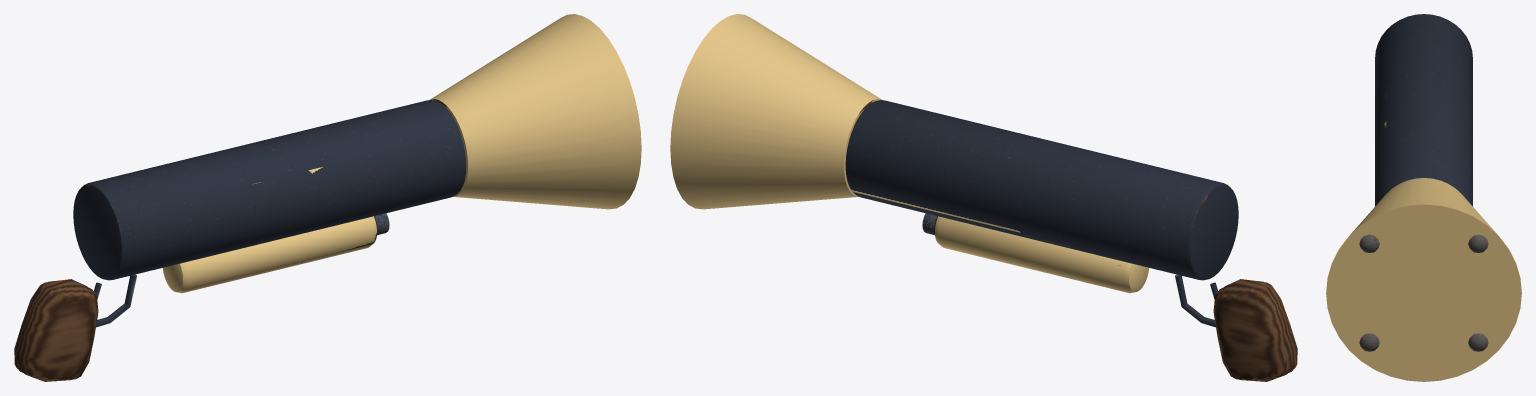
Rendered from netgun.glb.
3 renders of one model, left to right at view 1: azimuth 30°, elevation 25°; view 2: azimuth 150°, elevation 25°; view 3: azimuth 270°, elevation 25°, orthographic. The views are drawn at different scales.
Parts seen in each view (by area): view 1: tube, bell, grip, bottle; view 2: tube, bell, grip, bottle; view 3: bell, tube, weight2, weight3, weight0, weight1.
Boxes of the visible parts, x1,y1,x2,y2 form: tube: [73, 100, 466, 280]; bell: [430, 14, 641, 209]; grip: [14, 279, 98, 381]; bottle: [162, 216, 376, 293]; tube: [845, 100, 1238, 280]; bell: [670, 14, 881, 209]; grip: [1213, 279, 1297, 381]; bottle: [935, 216, 1149, 293]; bell: [1326, 178, 1521, 381]; tube: [1375, 14, 1472, 206]; weight2: [1359, 333, 1379, 351]; weight3: [1468, 333, 1488, 351]; weight0: [1468, 234, 1488, 252]; weight1: [1359, 234, 1379, 252].
Size of the model in its own units: 0.4674 by 0.1757 by 0.14.
1 material, 1 textured.
